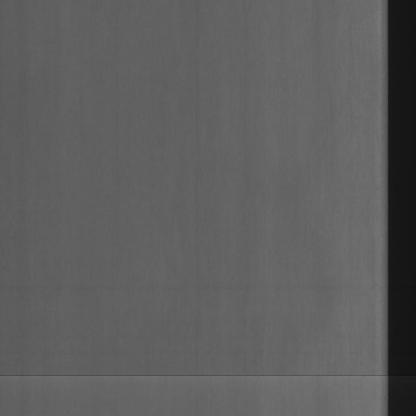welding_line: (0, 361, 390, 390)
